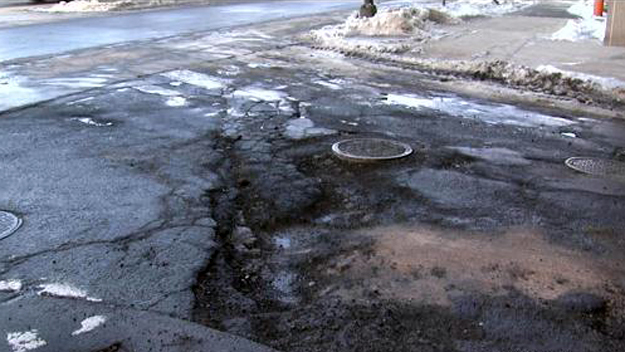pothole: (242, 211, 599, 321)
